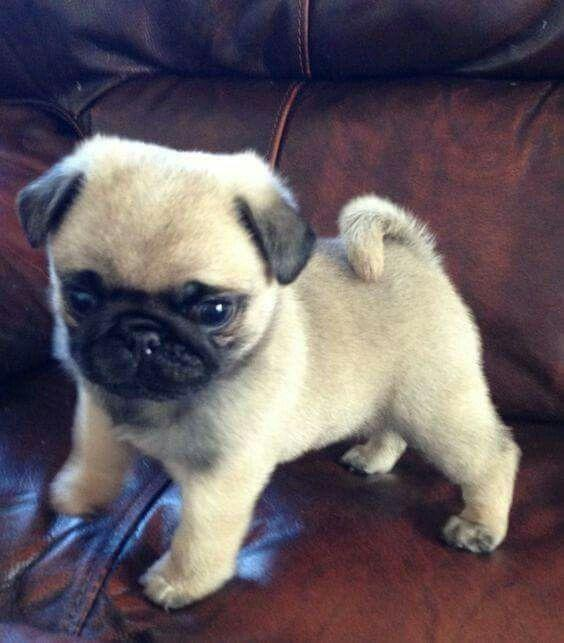puppy-dog: (13, 131, 526, 611)
